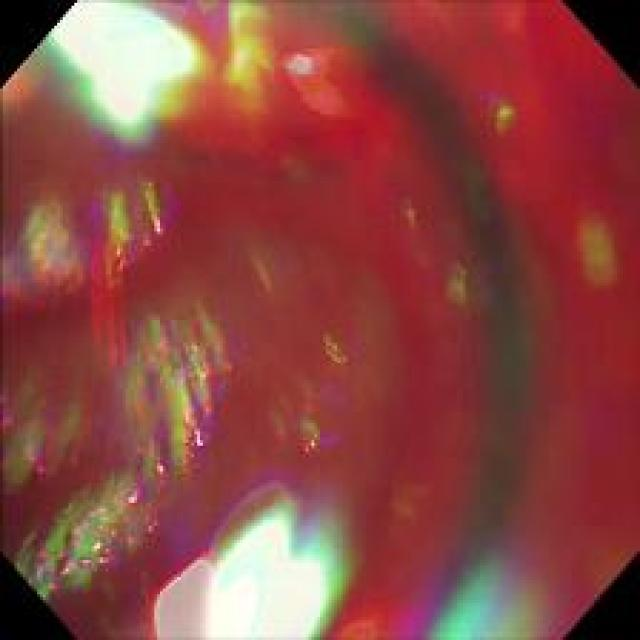color misalignment: (5, 11, 631, 632), (15, 25, 222, 614), (390, 45, 588, 634), (142, 44, 374, 474), (146, 490, 350, 631), (411, 544, 569, 630)
